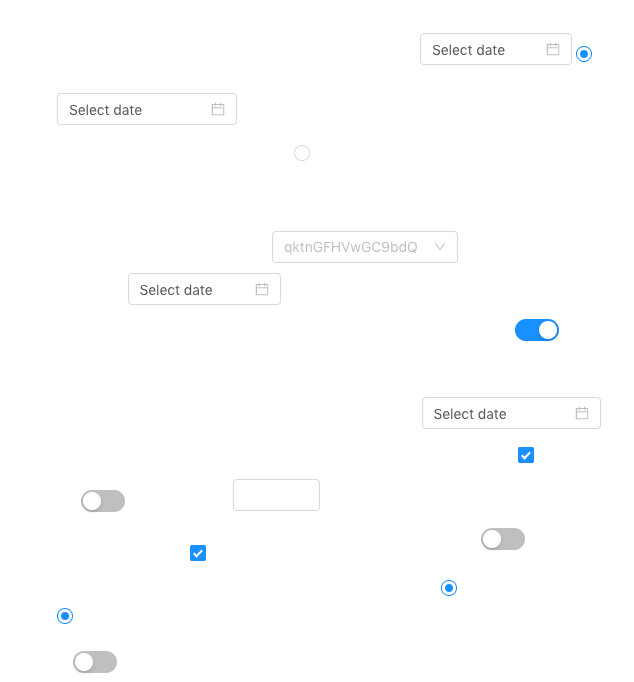Checkbox: (190, 542, 206, 563), (518, 444, 534, 465)
DatePicker: (57, 93, 237, 125), (422, 397, 601, 429), (128, 273, 281, 305), (420, 33, 572, 65)
Input: (233, 479, 320, 511)
Radio: (57, 605, 73, 625), (441, 577, 457, 597), (576, 43, 592, 63), (294, 142, 310, 162)
Select: (272, 231, 458, 263)
Switch: (73, 650, 117, 674), (515, 318, 559, 342), (481, 527, 525, 551), (81, 489, 125, 513)
